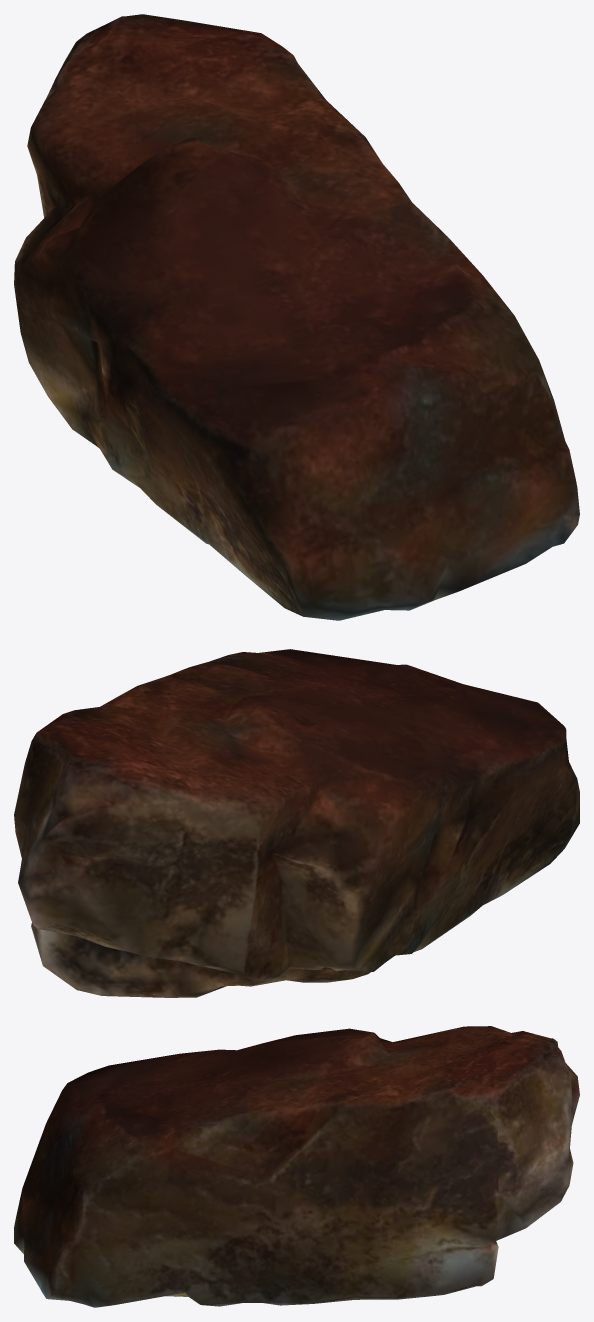
Rendered from rock_07.glb.
The picture shows the model from 3 angles, top to bottom: view 1: azimuth 30°, elevation 25°; view 2: azimuth 150°, elevation 25°; view 3: azimuth 270°, elevation 25°; orthographic projection. The views are drawn at different scales.
Parts seen in each view (by area): view 1: rock_07; view 2: rock_07; view 3: rock_07.
Part boxes in pixels (x1,y1,x2,y2): rock_07: [14, 14, 579, 620]; rock_07: [14, 649, 579, 997]; rock_07: [14, 1026, 579, 1307].
Bounding box in the file's own units: 0.1675 × 0.1434 × 0.3194.
1 material, 1 textured.
